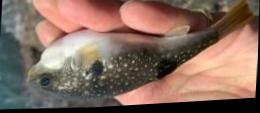fish: (27, 4, 252, 100)
